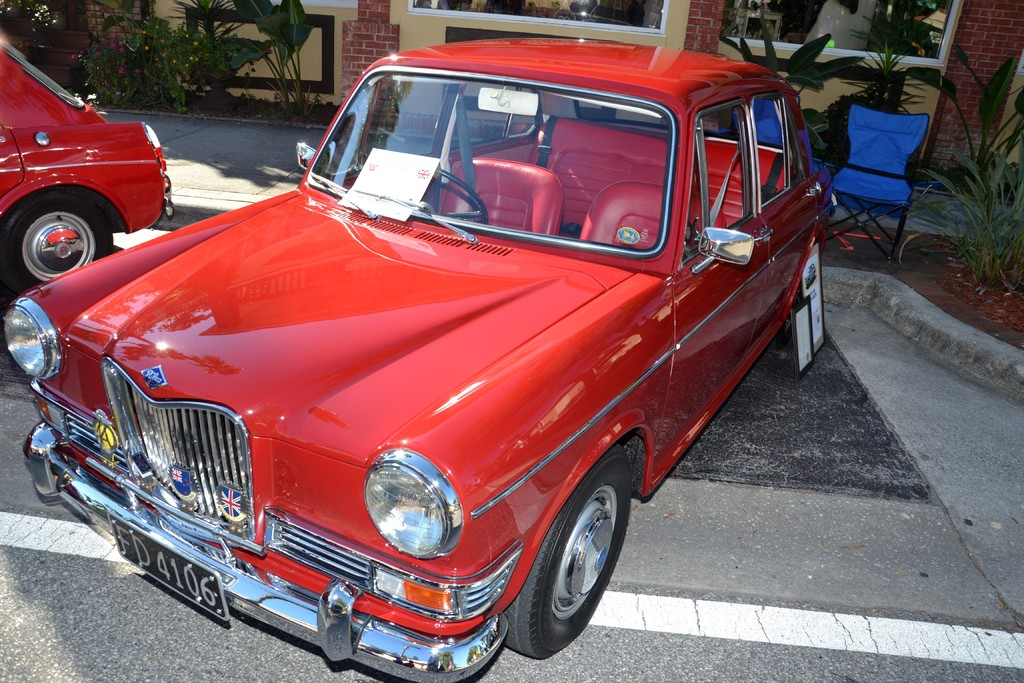cars: (0, 29, 837, 682), (0, 41, 192, 286)
